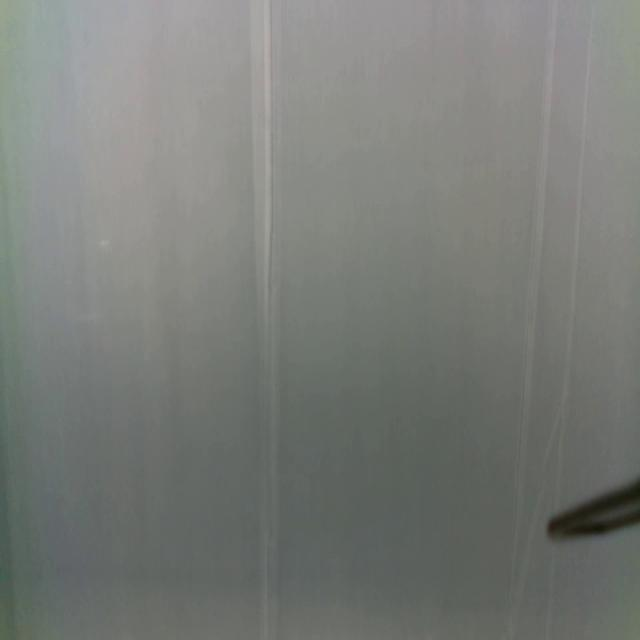crease: (510, 0, 557, 578), (557, 3, 597, 498), (254, 0, 282, 640)
